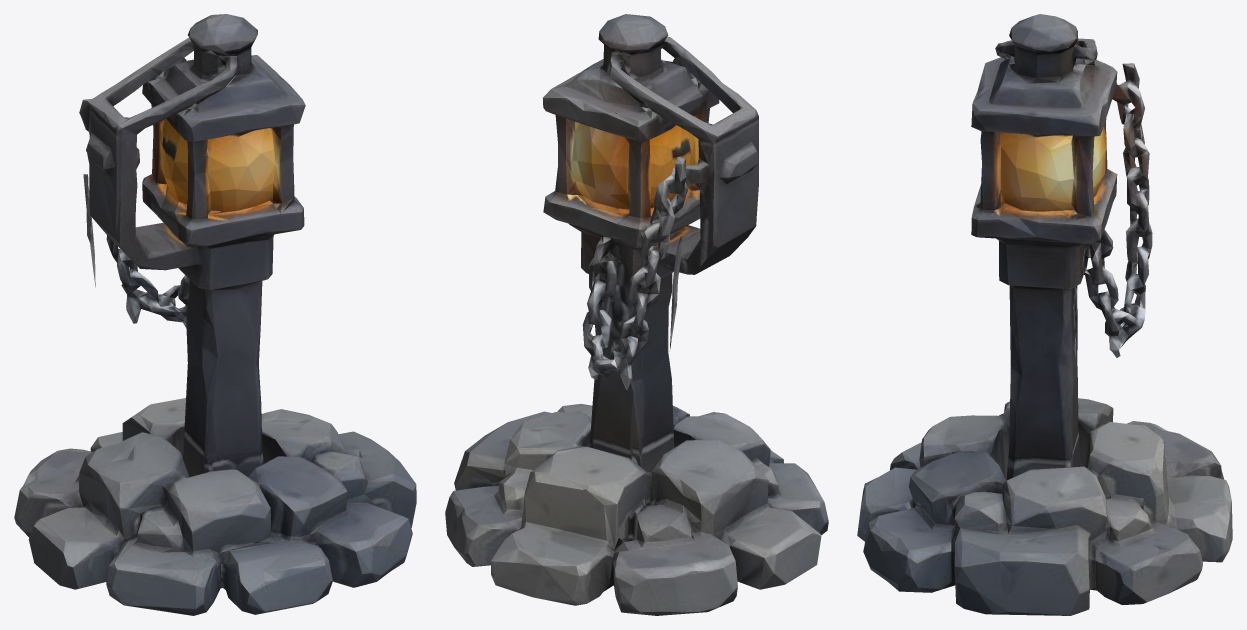
The model's file is ferry_lantern.glb.
3 views of the same model, side by side, from view 1: azimuth 30°, elevation 25°; view 2: azimuth 150°, elevation 25°; view 3: azimuth 270°, elevation 25° (orthographic).
Parts seen in each view (by area): view 1: tripo_node_ea918928-d5d7-4c5f-9a70-9dfaf2a2dcae.001; view 2: tripo_node_ea918928-d5d7-4c5f-9a70-9dfaf2a2dcae.001; view 3: tripo_node_ea918928-d5d7-4c5f-9a70-9dfaf2a2dcae.001.
Boxes of the visible parts, bbox=[...] form: tripo_node_ea918928-d5d7-4c5f-9a70-9dfaf2a2dcae.001: bbox=[14, 14, 416, 615]; tripo_node_ea918928-d5d7-4c5f-9a70-9dfaf2a2dcae.001: bbox=[445, 14, 828, 615]; tripo_node_ea918928-d5d7-4c5f-9a70-9dfaf2a2dcae.001: bbox=[857, 14, 1232, 615].
Bounding box in the file's own units: 0.6844 × 0.9987 × 0.6567.
Materials: 1 (1 with a texture image).
